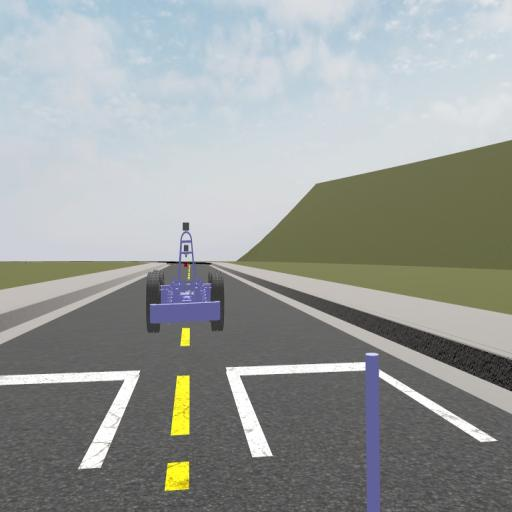ERP-42: (145, 222, 225, 332)
